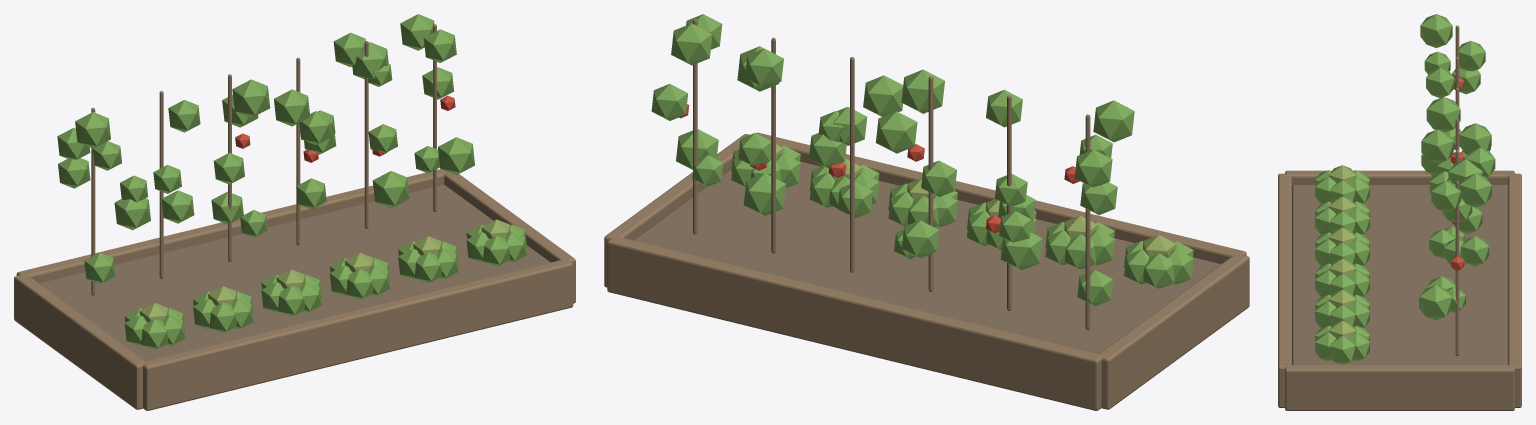
The model's file is VegetableBed.fbx.
The picture shows the model from 3 angles, left to right: view 1: azimuth 30°, elevation 25°; view 2: azimuth 150°, elevation 25°; view 3: azimuth 270°, elevation 25°; orthographic projection. The views are drawn at different scales.
Visible parts, largest first — view 1: VegetableBed; view 2: VegetableBed; view 3: VegetableBed.
Boxes of the visible parts, x1,y1,x2,y2 form: VegetableBed: (14,14,575,410); VegetableBed: (604,14,1249,410); VegetableBed: (1278,14,1521,410).
Size of the model in its own units: 2.06 by 1.03 by 1.06.
